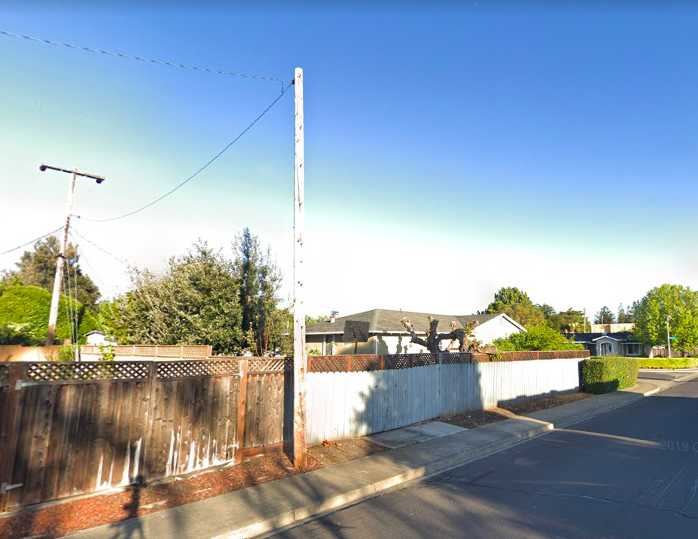utility_pole: (33, 150, 108, 219), (278, 55, 315, 131)
